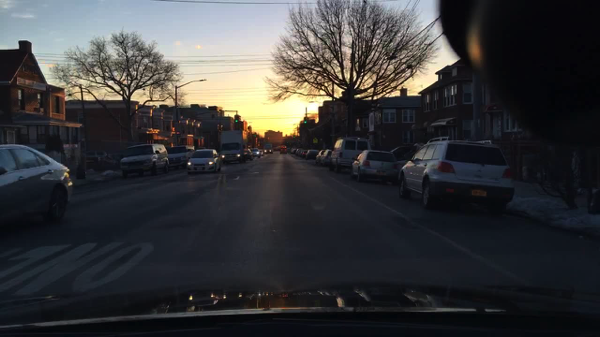car: (398, 137, 514, 219), (1, 144, 72, 225), (120, 145, 169, 180), (349, 151, 401, 182), (329, 138, 370, 172), (186, 150, 223, 176), (389, 145, 421, 167), (169, 146, 194, 166), (316, 150, 331, 166), (84, 150, 108, 159), (305, 148, 316, 160), (262, 142, 272, 155), (243, 149, 253, 161), (252, 148, 261, 158), (279, 145, 288, 154), (288, 148, 296, 155), (298, 150, 304, 158), (275, 144, 280, 152)
traffic light: (303, 115, 307, 125)
traffic sign: (312, 136, 318, 144)
truck: (218, 129, 243, 163)
